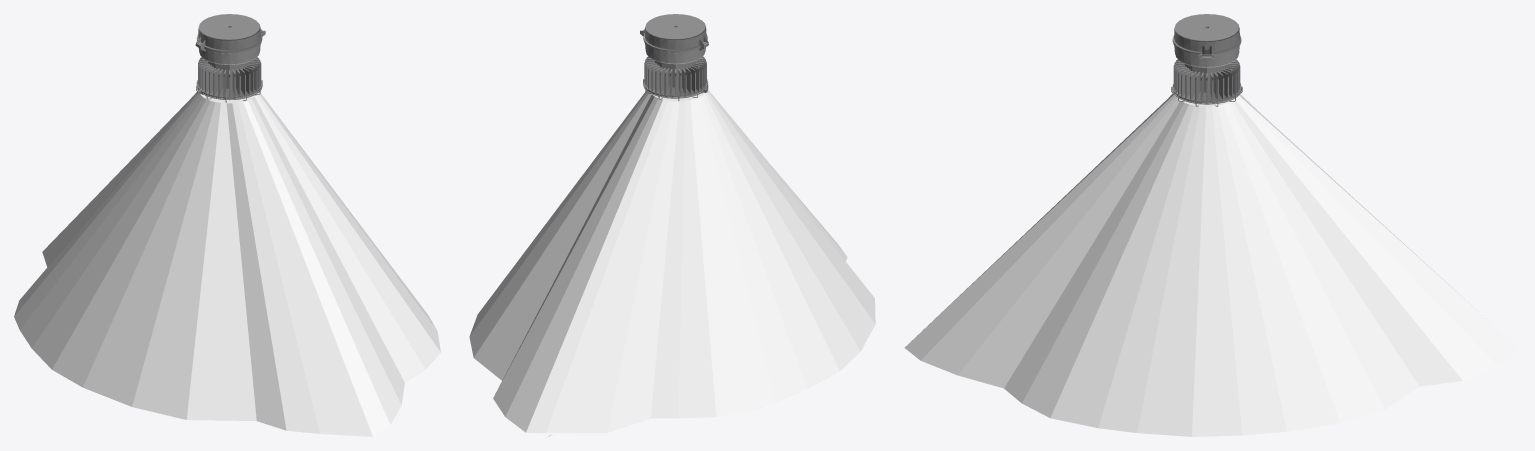
Rendered from PVML.obj.
3 views of the same model, side by side, from view 1: azimuth 30°, elevation 25°; view 2: azimuth 150°, elevation 25°; view 3: azimuth 270°, elevation 25° (orthographic). The views are drawn at different scales.
Parts seen in each view (by area): view 1: Cylinder, PVM3L2AR1G_UNV1; view 2: Cylinder, PVM3L2AR1G_UNV1; view 3: Cylinder, PVM3L2AR1G_UNV1.
Part boxes in pixels (x1=…): Cylinder: x1=14, y1=92, x2=440, y2=436; PVM3L2AR1G_UNV1: x1=195, y1=14, x2=265, y2=102; Cylinder: x1=469, y1=88, x2=875, y2=433; PVM3L2AR1G_UNV1: x1=640, y1=14, x2=708, y2=100; Cylinder: x1=904, y1=93, x2=1520, y2=436; PVM3L2AR1G_UNV1: x1=1171, y1=14, x2=1242, y2=106.
Size of the model in its own units: 62.03 by 52.77 by 91.05.
3 materials, 2 textured.
